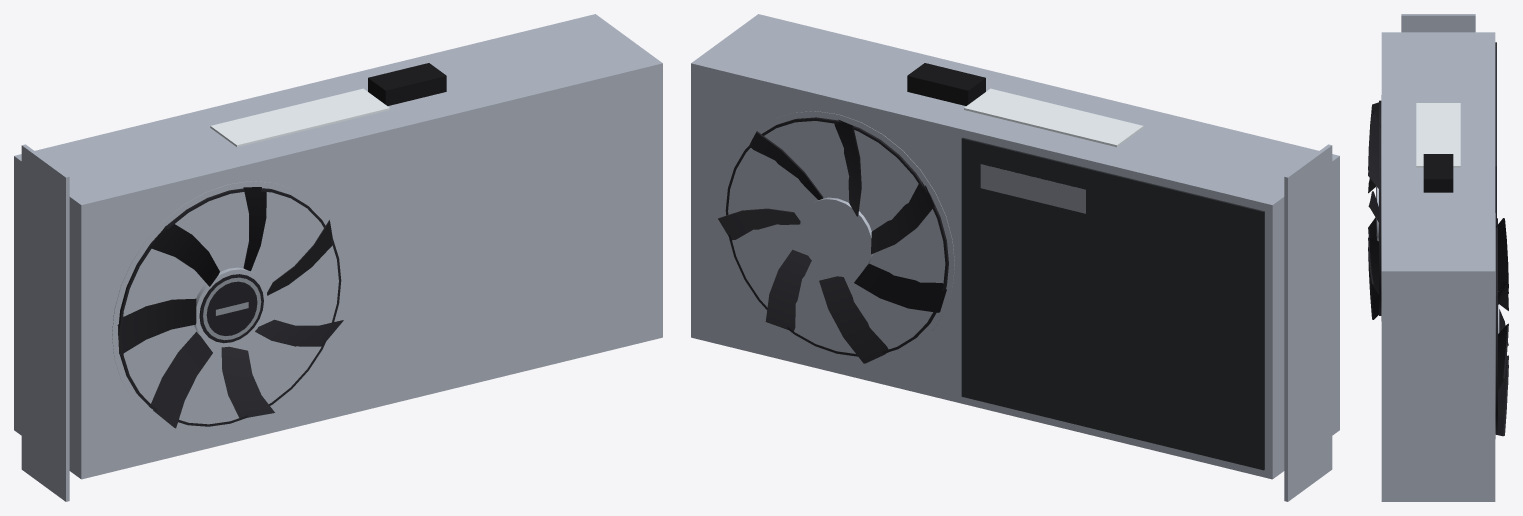
File: GPU_NVIDIA_GEFORCE_RTX_4090_DESKTOP_FE.obj
The picture shows the model from 3 angles, left to right: view 1: azimuth 30°, elevation 25°; view 2: azimuth 150°, elevation 25°; view 3: azimuth 270°, elevation 25°; orthographic projection. The views are drawn at different scales.
Parts seen in each view (by area): view 1: Main_Card, Fan_Rotor_1; view 2: Main_Card, Fan_Rotor_2; view 3: Main_Card, Fan_Rotor_2, Fan_Rotor_1.
Part boxes in pixels (left/top/right/bottom): Main_Card: left=14, top=14, right=662, bottom=501; Fan_Rotor_1: left=117, top=187, right=343, bottom=428; Main_Card: left=691, top=14, right=1339, bottom=501; Fan_Rotor_2: left=718, top=117, right=948, bottom=363; Main_Card: left=1381, top=14, right=1496, bottom=501; Fan_Rotor_2: left=1495, top=218, right=1508, bottom=436; Fan_Rotor_1: left=1368, top=100, right=1381, bottom=319.
Bounding box in the file's own units: 306 × 162 × 75.81.
